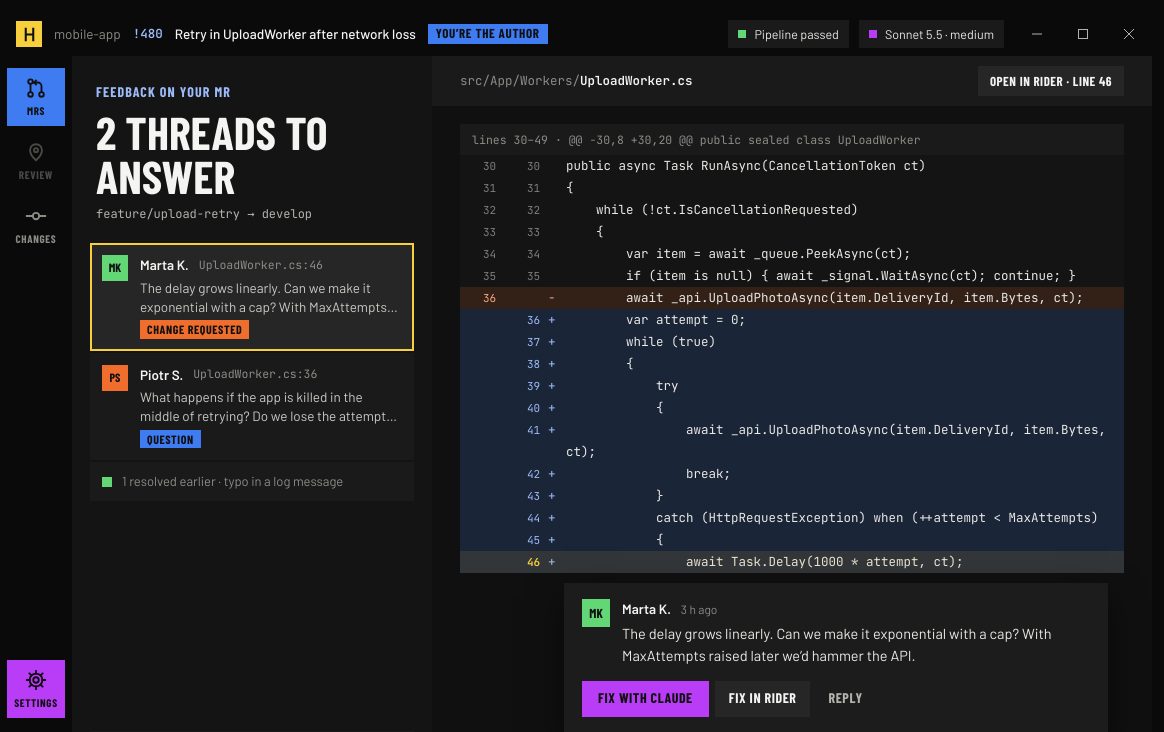
Scenario: S-10 question thread: reply composer (F-26.7) › F-26.7 a question thread opens with the reply text area, Draft with Claude and Send reply, and no Reply button
Click the option that starts with "Piotr S.".
click(252, 406)  # box [90,353,414,460]
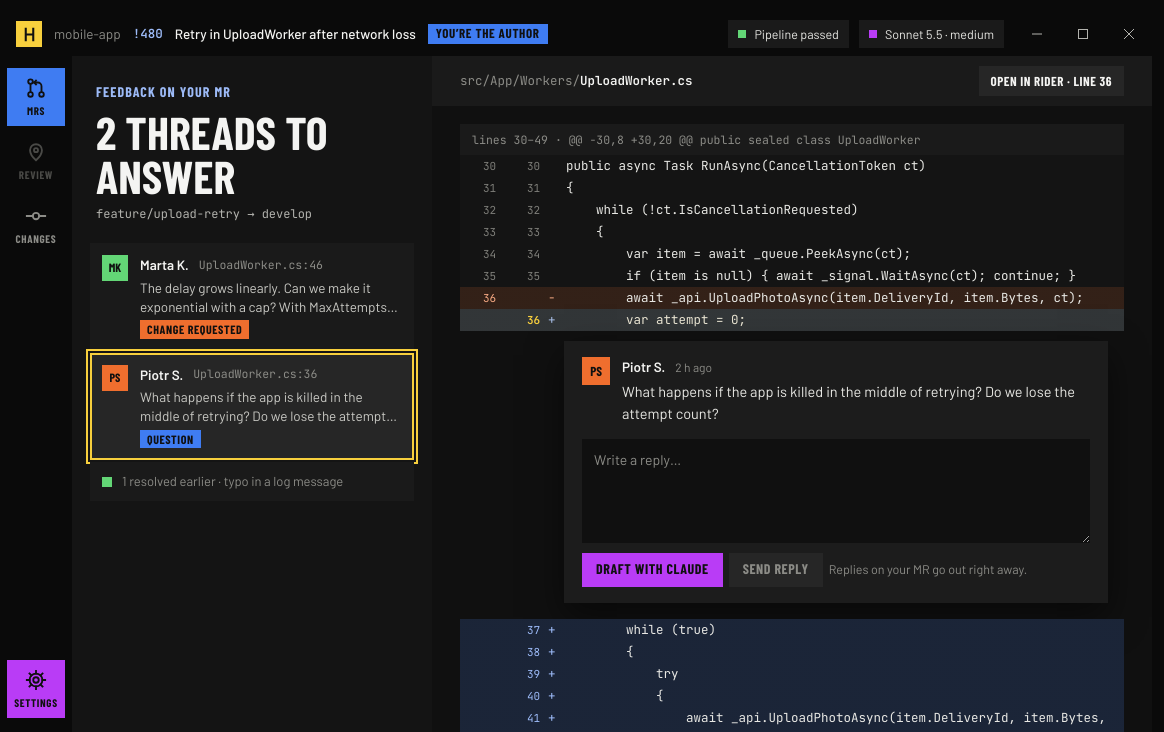
Now the button "Open in Rider · line 36" is shown, box [978,66,1124,96]
Now the text "What happens if the app is killed in the middle of retrying?" below "2 h ago" is shown, box [622,382,1078,422]
Now the text box named "Your reply" is empty, box [582,438,1090,542]
